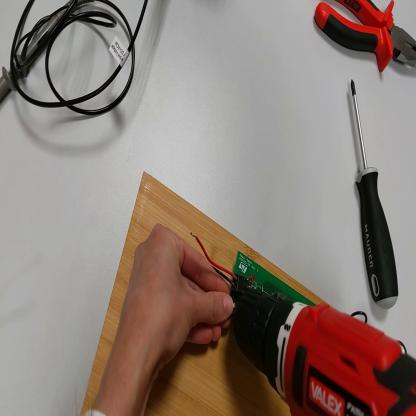electric screwdriver: (234, 289, 416, 416)
hand: (118, 224, 234, 374)
high voltage board: (190, 233, 316, 308)
oscilloscope probe tip: (2, 1, 76, 106)
pliers: (314, 2, 416, 72)
screwdriver-: (350, 81, 401, 312)
working area: (81, 173, 325, 416)
